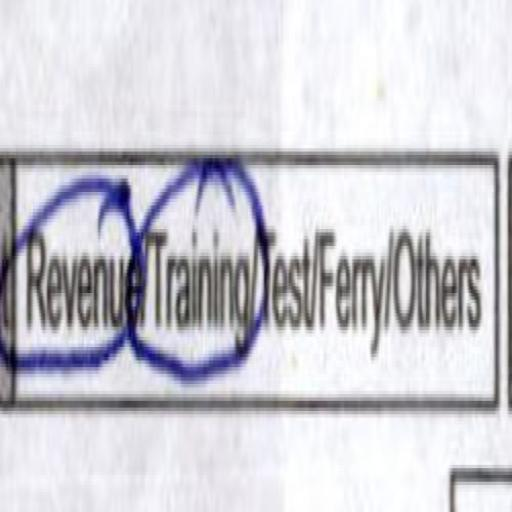check: (23, 119, 139, 443), (143, 135, 254, 443)
